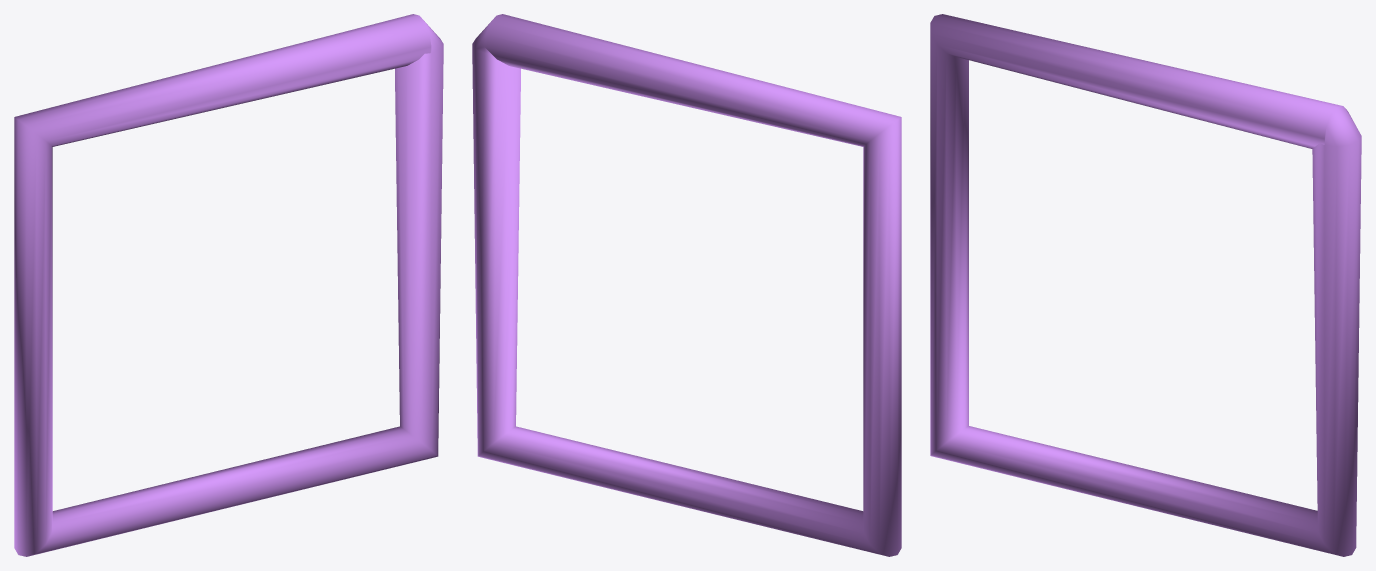
The model's file is square-C2Vvu21p.glb.
3 renders of one model, left to right at view 1: azimuth 30°, elevation 25°; view 2: azimuth 150°, elevation 25°; view 3: azimuth 330°, elevation 25°, orthographic.
Parts seen in each view (by area): view 1: R3D_square_Body_0; view 2: R3D_square_Body_0; view 3: R3D_square_Body_0.
Part boxes in pixels (<box>): R3D_square_Body_0: <box>14,14,443,556</box>; R3D_square_Body_0: <box>472,14,901,556</box>; R3D_square_Body_0: <box>930,14,1361,556</box>.
Bounding box in the file's own units: 1.78 × 1.78 × 0.18.
